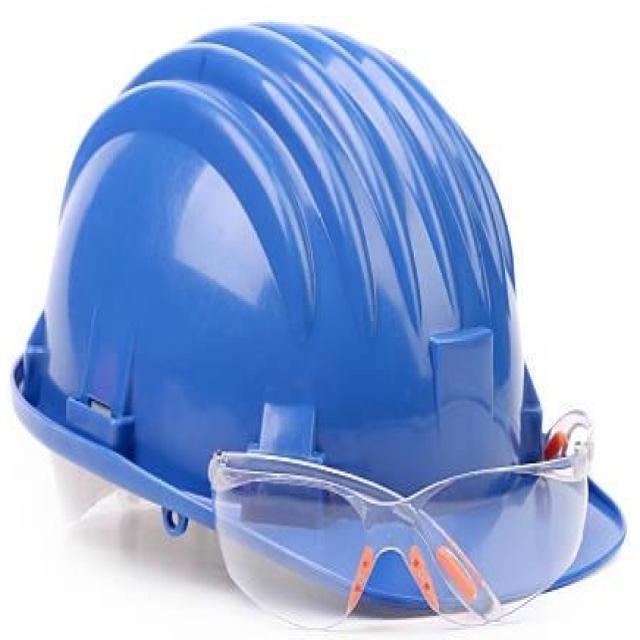helmet: (14, 24, 625, 626)
